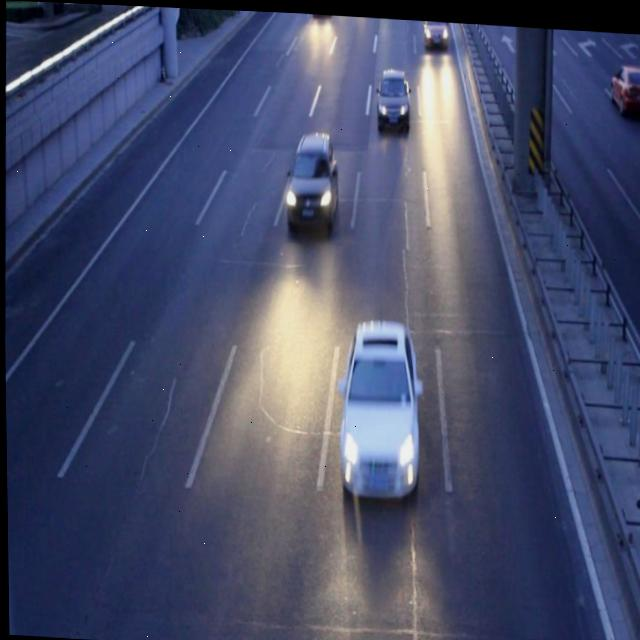car: (332, 312, 423, 500), (283, 127, 337, 230), (374, 64, 409, 128), (421, 17, 447, 46)
